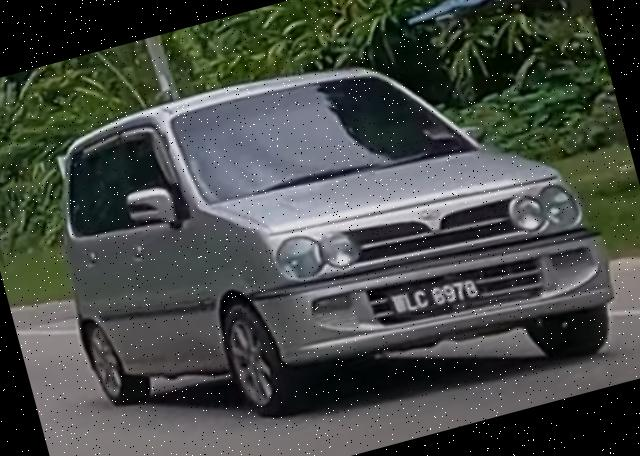License_Plate: (390, 274, 485, 326)
car: (25, 1, 633, 456)
